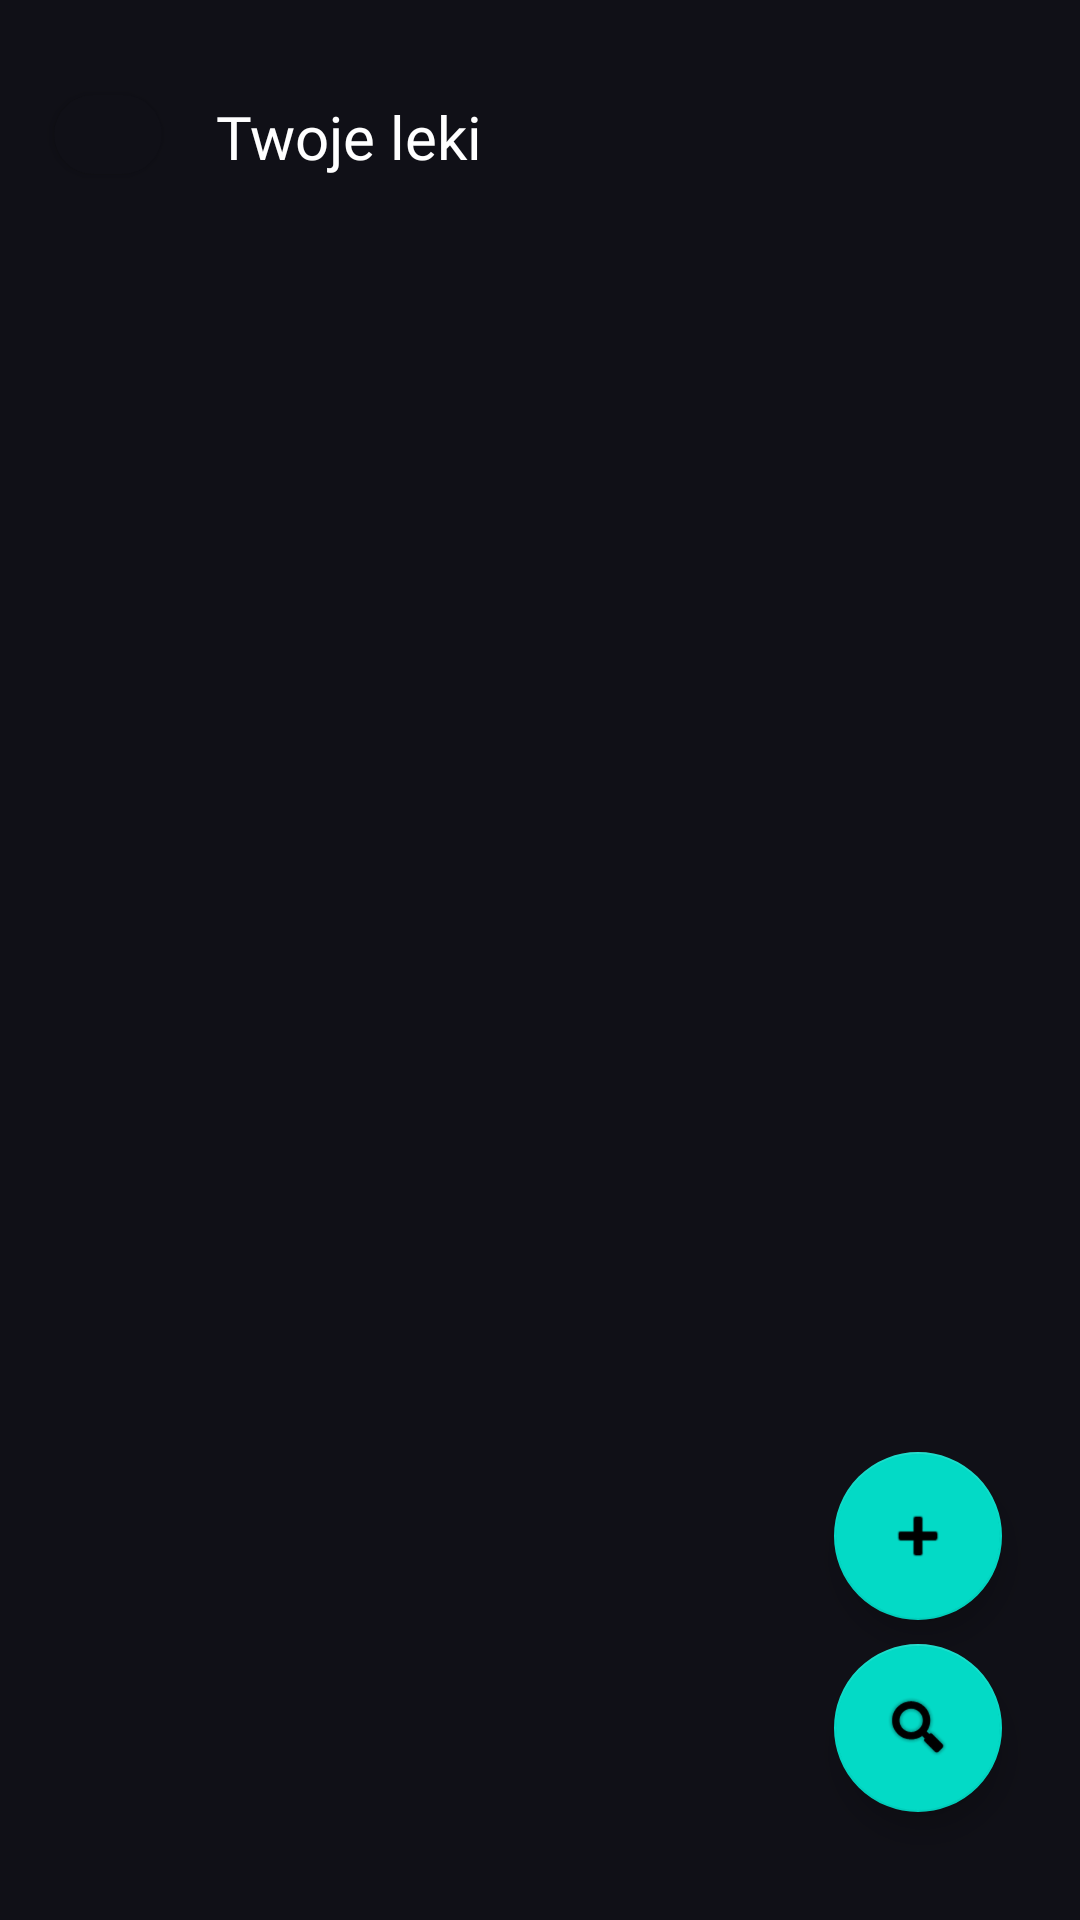

Icons on this 1080x1920 Android screen, each with its box as (x1, y1, x2, y2):
add: (834, 1452, 1002, 1620)
search category: (834, 1644, 1002, 1812)
